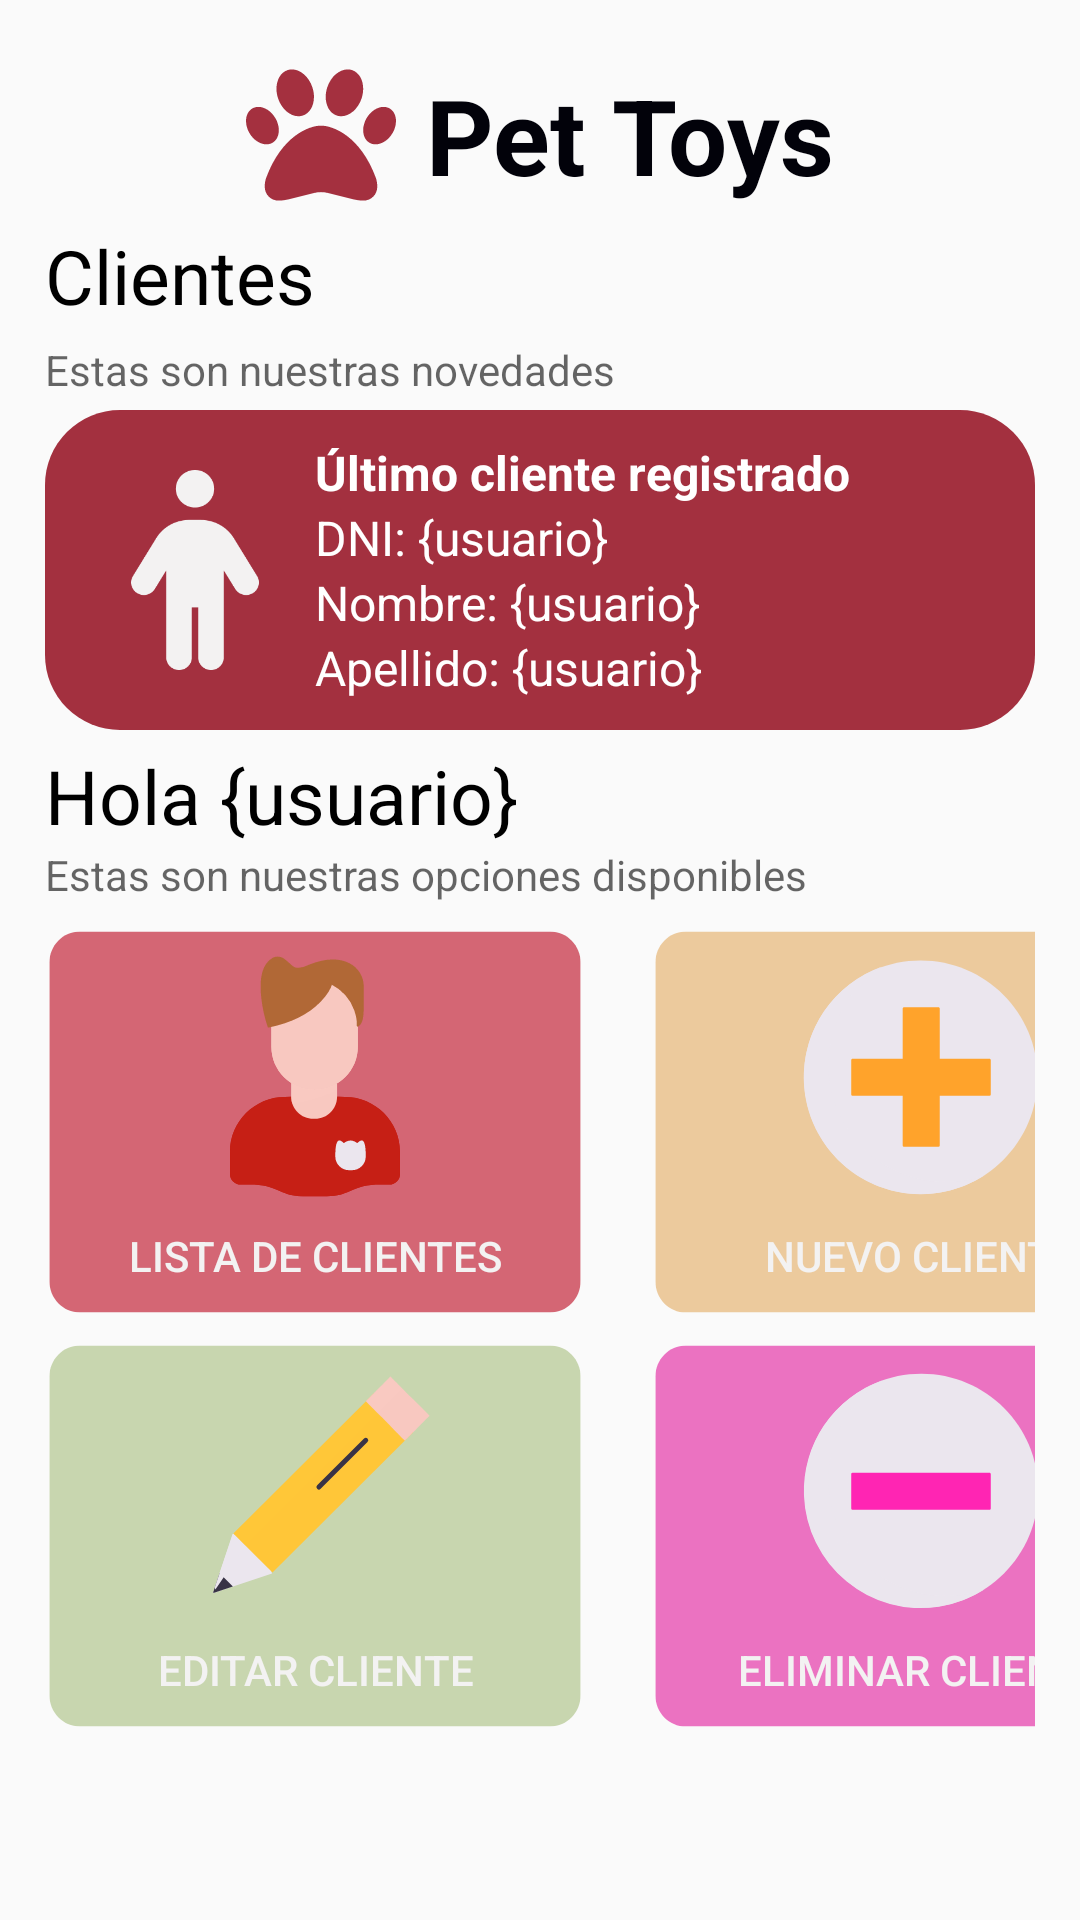

Named icons in this screenshot (1080*1920) and their bounding boxes, (x1, y1, x2, y2):
paw: (246, 69, 396, 201)
personsolid: (131, 470, 259, 670)
